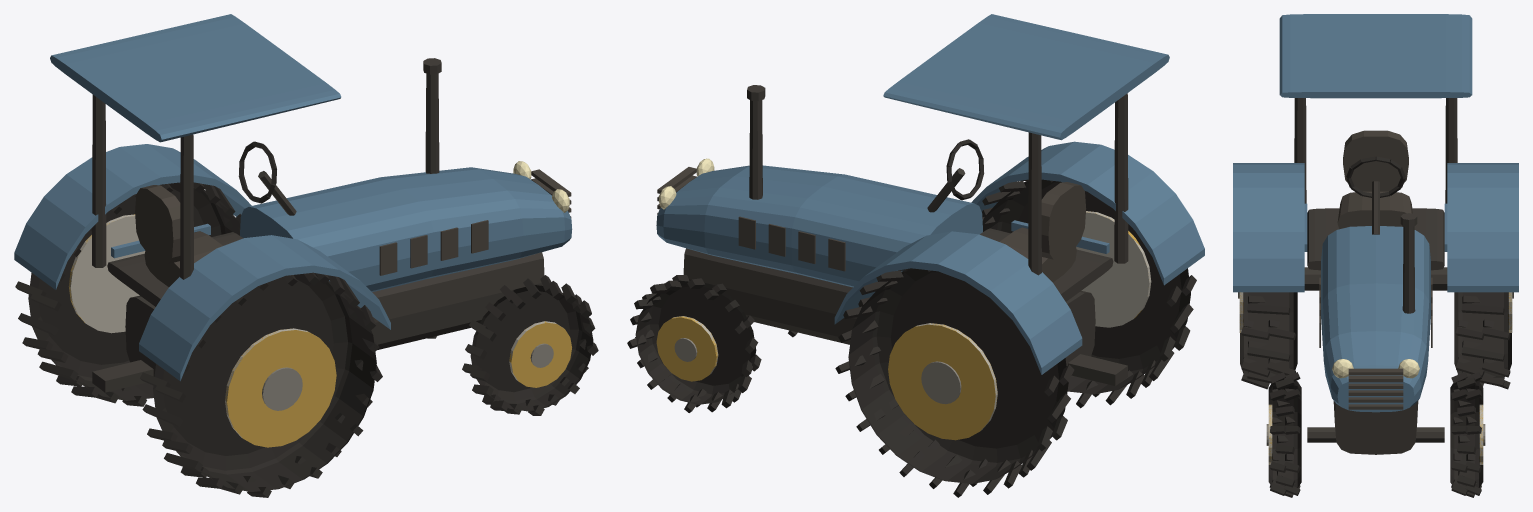
Rendered from traktor-deniz-mavisi.glb.
3 renders of one model, left to right at view 1: azimuth 30°, elevation 25°; view 2: azimuth 150°, elevation 25°; view 3: azimuth 270°, elevation 25°, orthographic. The views are drawn at different scales.
Parts seen in each view (by area): view 1: a_deniz, lastik, demir, a_hardal, ic, jant, tampon; view 2: a_deniz, lastik, demir, a_hardal, ic, jant, tampon; view 3: a_deniz, lastik, demir, ic, jant, far, a_hardal.
Part boxes in pixels (x1,y1,x2,y2): a_deniz: (14, 14, 572, 381); lastik: (15, 141, 598, 497); demir: (92, 58, 544, 392); a_hardal: (69, 214, 571, 447); ic: (135, 169, 571, 286); jant: (69, 214, 562, 437); tampon: (262, 343, 553, 410); a_deniz: (656, 14, 1204, 374); lastik: (627, 139, 1196, 497); demir: (683, 85, 1128, 385); a_hardal: (656, 212, 1141, 440); ic: (657, 167, 1086, 282); jant: (673, 211, 1151, 430); tampon: (674, 338, 961, 404); a_deniz: (1233, 14, 1518, 412); lastik: (1240, 156, 1511, 497); demir: (1294, 98, 1457, 454); ic: (1319, 130, 1432, 409); jant: (1239, 292, 1512, 464); far: (1332, 359, 1419, 378); a_hardal: (1239, 292, 1512, 464).
Size of the model in its own units: 3.35 by 2.6 by 2.08.
